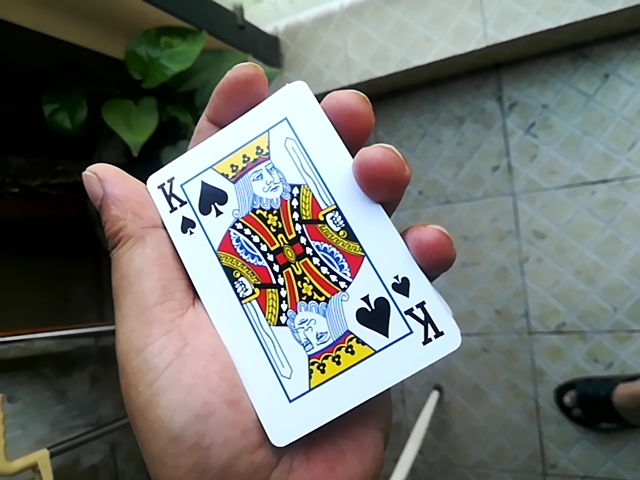ht k: (131, 67, 440, 454)
